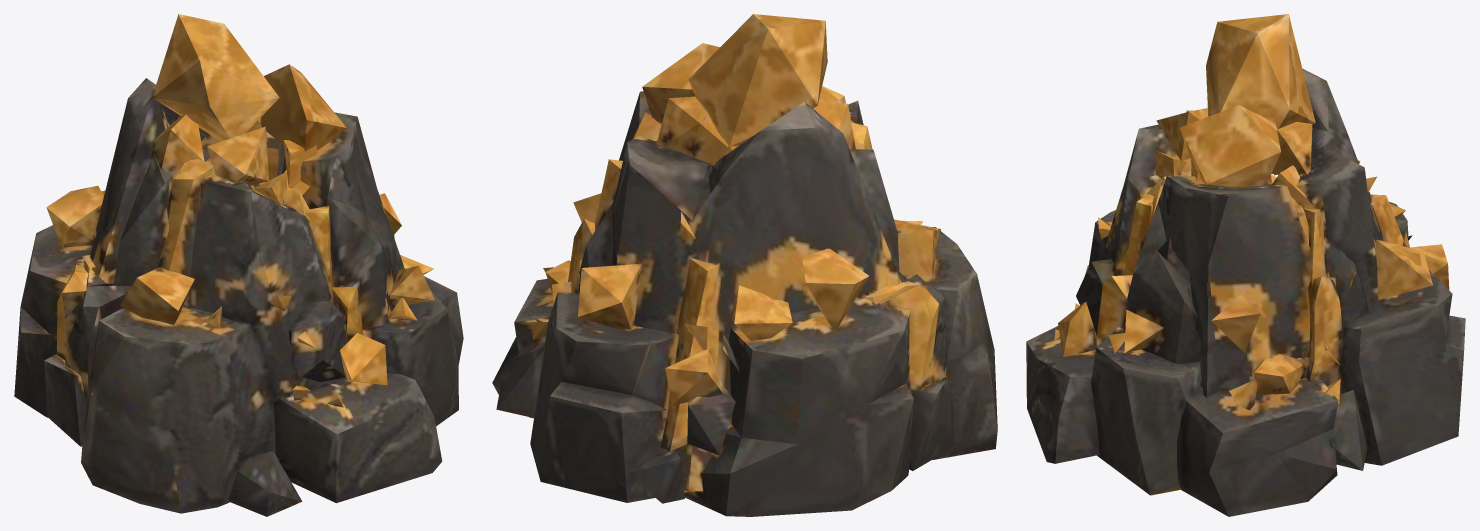
The model's file is gold_ore.glb.
3 views of the same model, side by side, from view 1: azimuth 30°, elevation 25°; view 2: azimuth 150°, elevation 25°; view 3: azimuth 270°, elevation 25° (orthographic). The views are drawn at different scales.
Visible parts, largest first — view 1: Mesh; view 2: Mesh; view 3: Mesh.
Part boxes in pixels (<box>): Mesh: <box>14,14,463,516</box>; Mesh: <box>492,14,997,516</box>; Mesh: <box>1026,14,1465,516</box>.
Size of the model in its own units: 0.9878 by 0.9576 by 0.968.
Materials: 1 (1 with a texture image).
